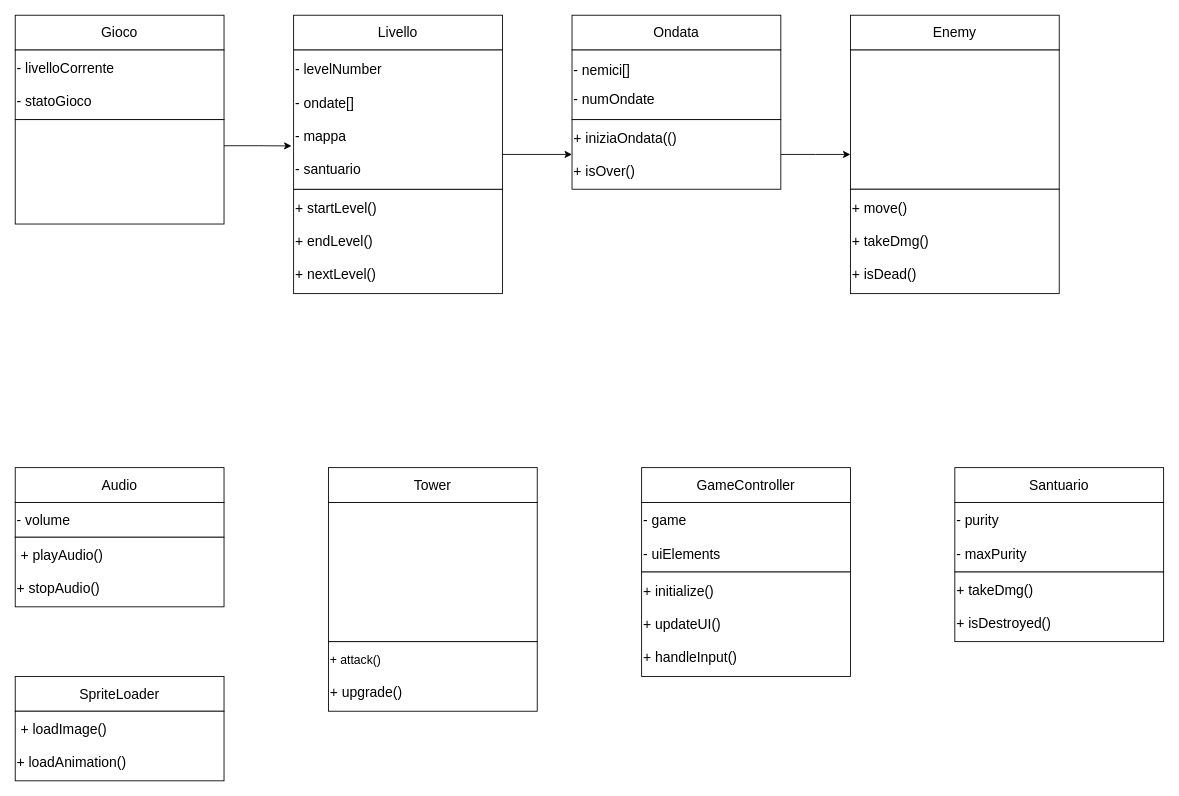
Image size: 1179x796. Some labels were removed from this diagram. The shapes that lost their labels are listed below. From the top down, each one's centre as x and y in pixels, then its label:
At [954,119]: "- hp - vel - tipo - posizione".
At [119,171]: "+ start() + caricaLivello() + progressSaver()".
At [432,572]: "- dmg - distance - fireRate - cost".
